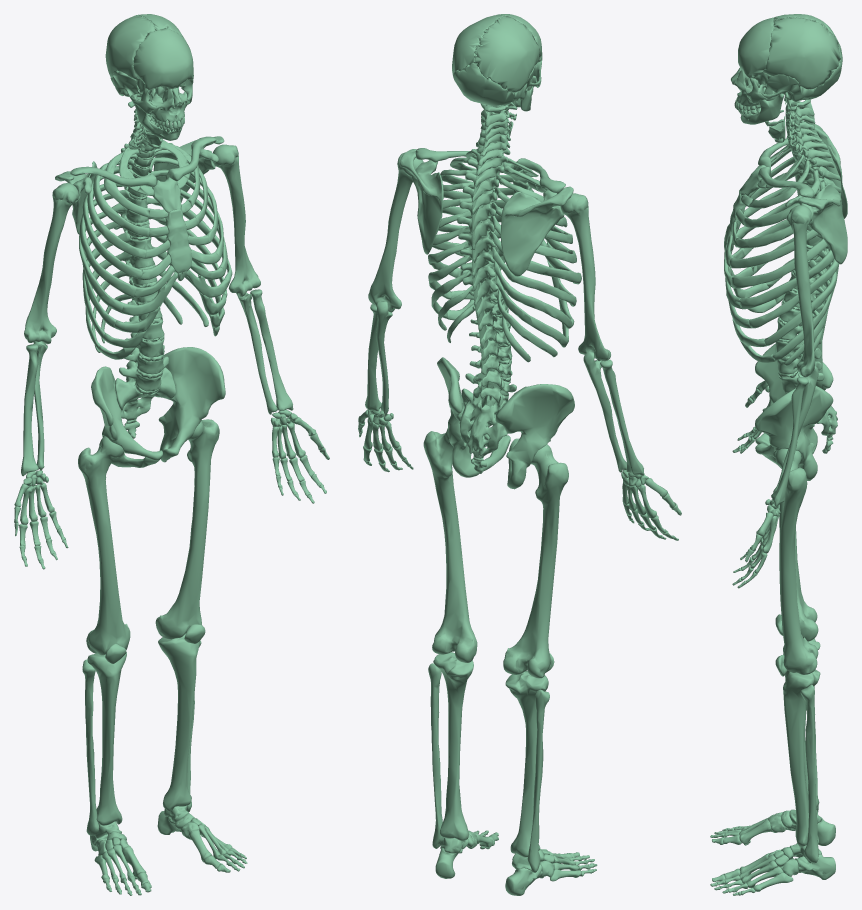
The model's file is skeleton.glb.
3 views of the same model, side by side, from view 1: azimuth 30°, elevation 25°; view 2: azimuth 150°, elevation 25°; view 3: azimuth 270°, elevation 25° (orthographic). The views are drawn at different scales.
Parts seen in each view (by area): view 1: skeleton; view 2: skeleton; view 3: skeleton.
Boxes of the visible parts, box(x1,y1,x2,y2) form: skeleton: box(14, 14, 329, 895); skeleton: box(358, 14, 681, 895); skeleton: box(710, 14, 847, 895).
Size of the model in its own units: 0.7829 by 1.98 by 0.2925.
